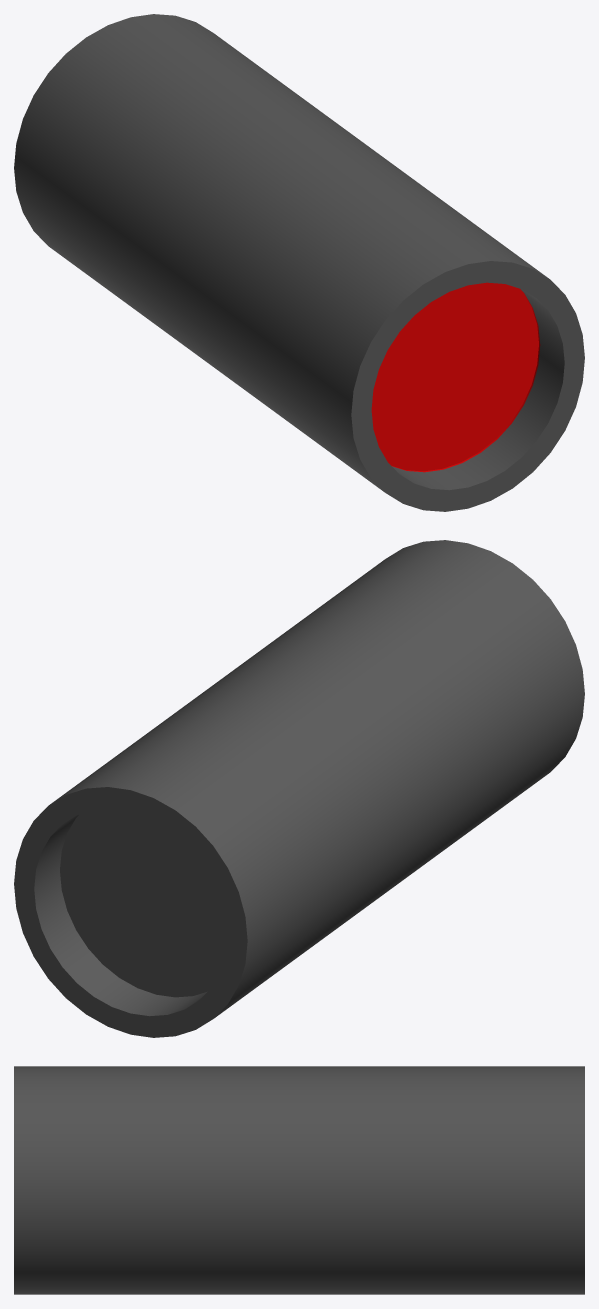
File: PowerRod_destroyed_piece05.fbx
3 views of the same model, one above another, from view 1: azimuth 30°, elevation 25°; view 2: azimuth 150°, elevation 25°; view 3: azimuth 270°, elevation 25° (orthographic). The views are drawn at different scales.
Visible parts, largest first — view 1: pCylinder15; view 2: pCylinder15; view 3: pCylinder15.
Boxes of the visible parts, <box> form: pCylinder15: <box>14,14,584,511</box>; pCylinder15: <box>14,540,584,1037</box>; pCylinder15: <box>14,1066,584,1294</box>.
Size of the model in its own units: 10 by 10 by 25.
